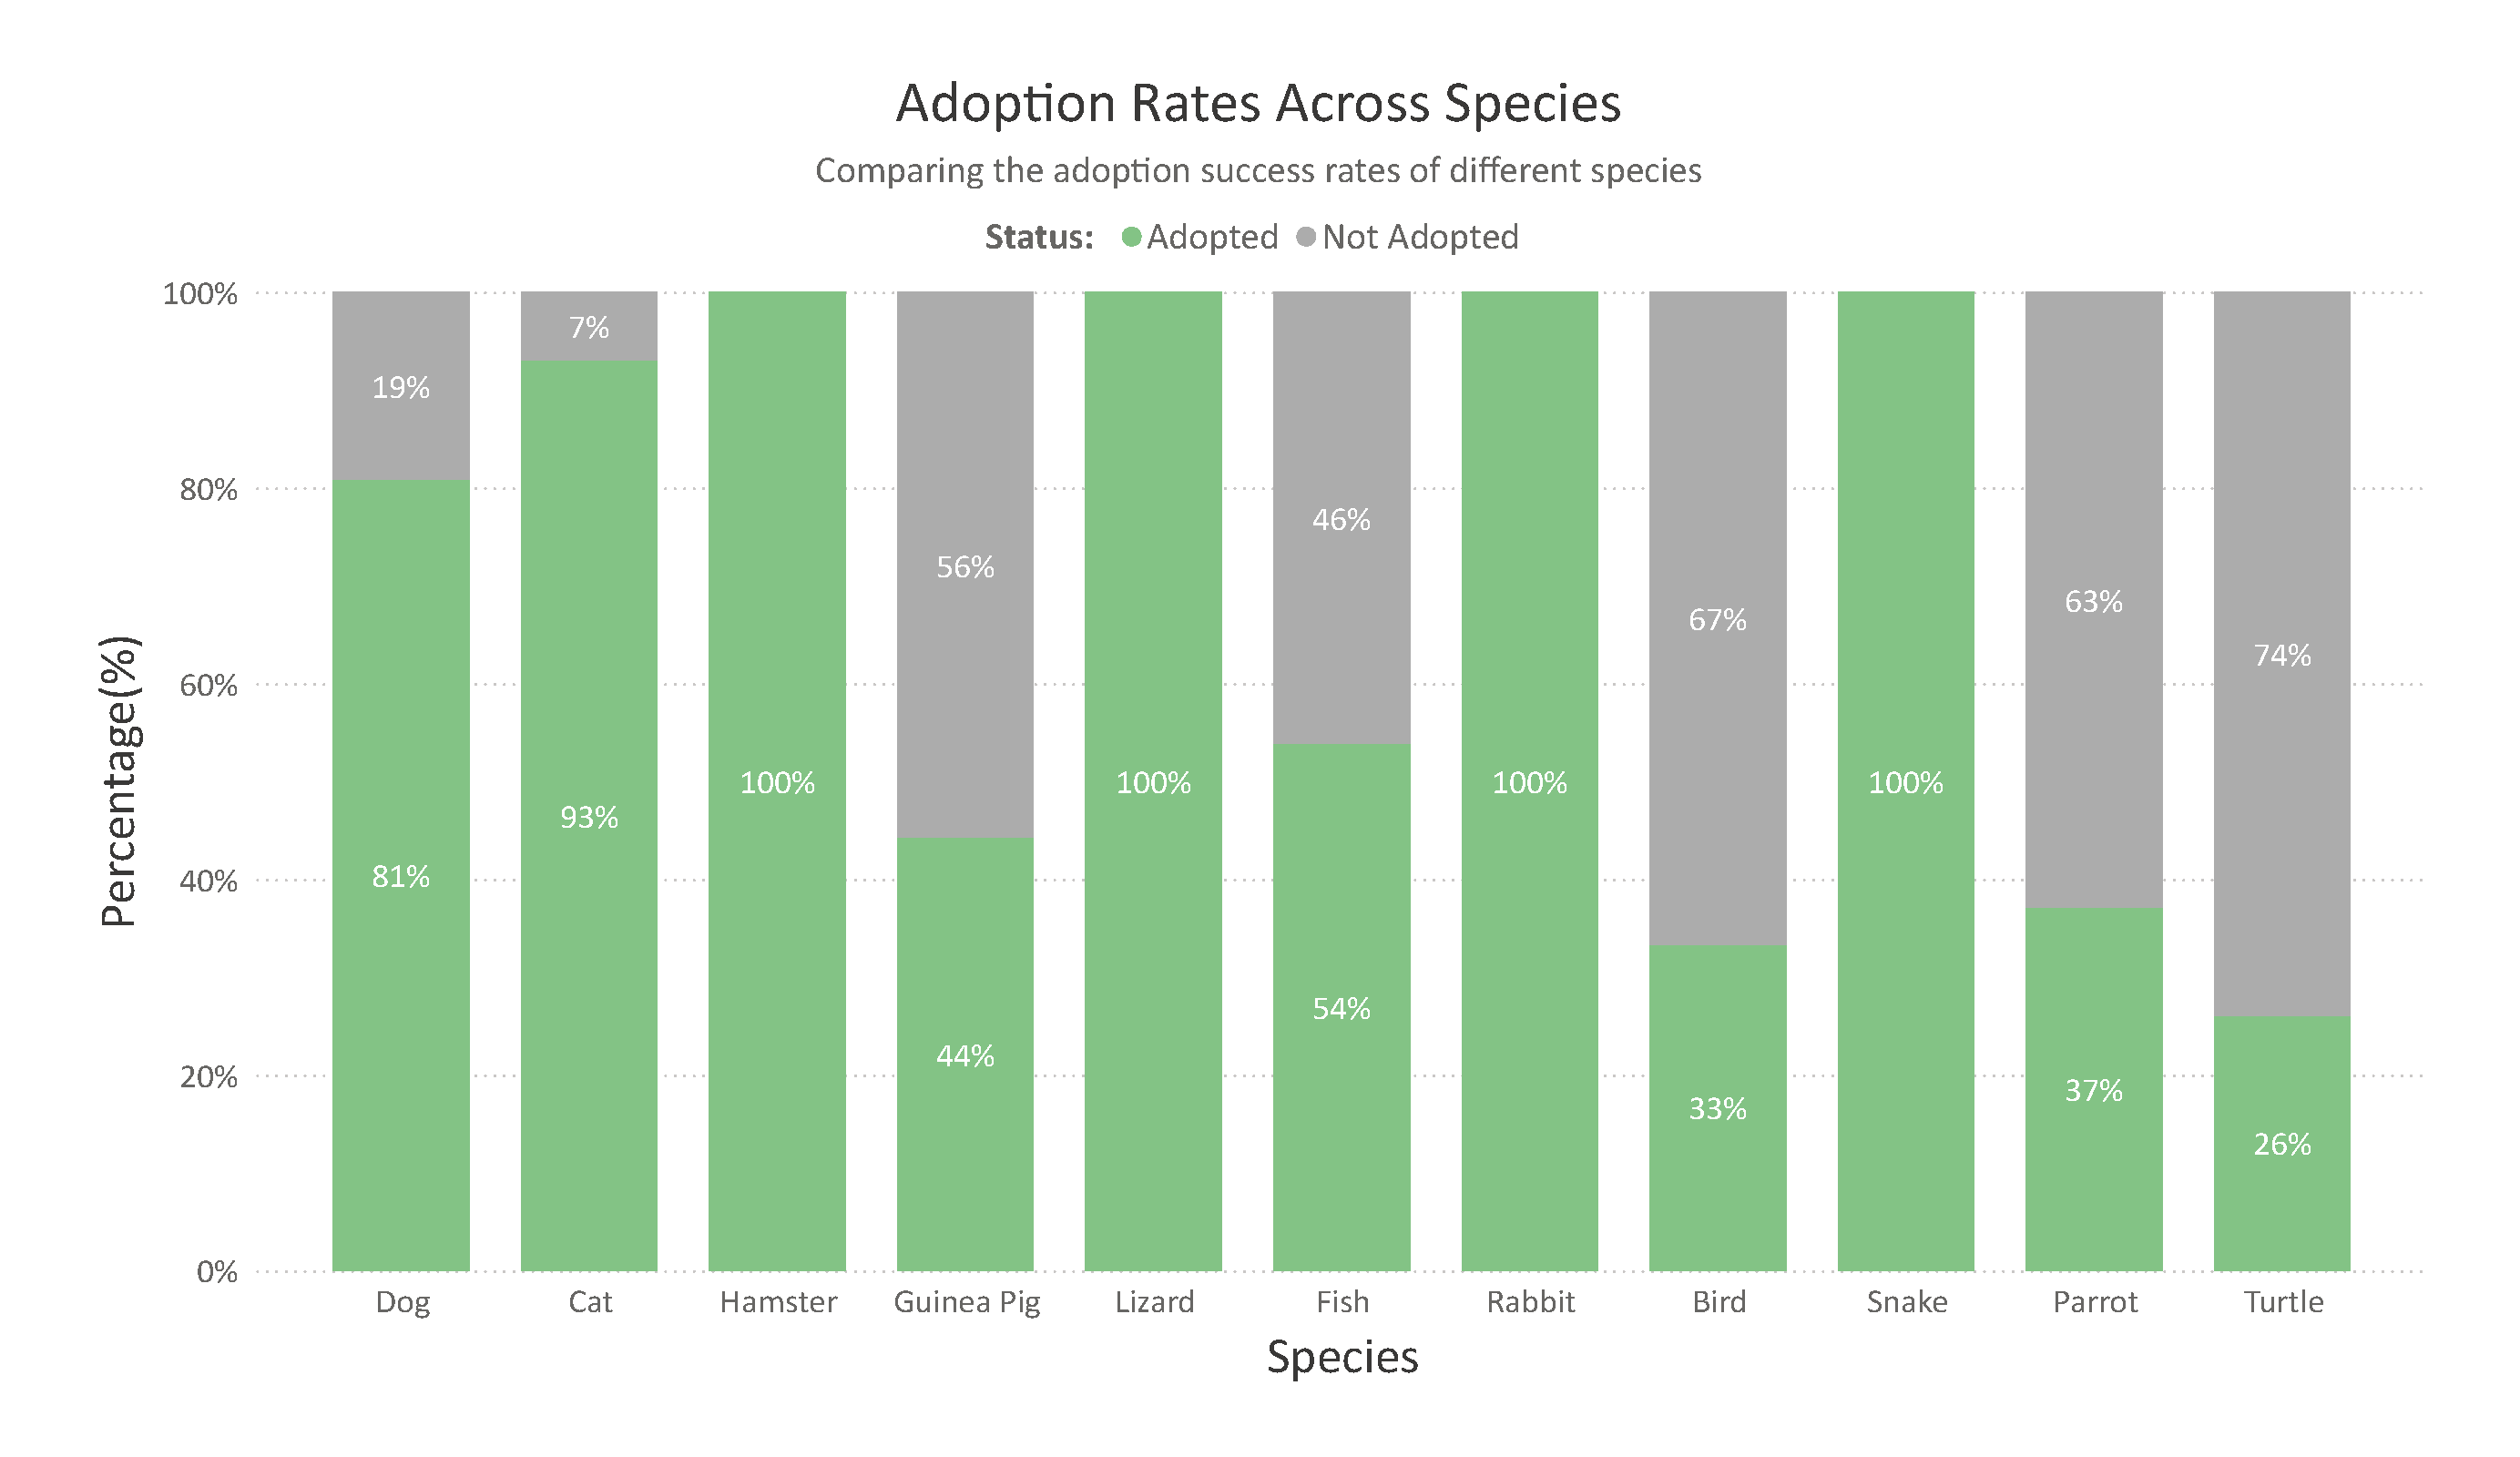

What the dashboard file says about the page in this screenshot:
{"tool":"powerbi","page":{"name":"2.1.2","canvas":[1280,720],"ordinal":9},"visuals":[{"type":"hundredPercentStackedColumnChart","title":"Adoption Rates Across Species","fields":{"Category":["2 1_adopted_vs_not_adopted.species_name"],"Y":["Sum(2 1_adopted_vs_not_adopted.adopted_count)","Sum(2 1_adopted_vs_not_adopted.not_adopted_count)"]},"box":[17.8,10.2,1243.5,701.7],"z":0}]}

Visuals, with their boxes on the page's 1280x720 design canvas (x1, y1, x2, y2). These are canvas units, not pixel positions in the 2520x1457 screenshot, which may show the page scaled, cropped or inside an application window:
"Adoption Rates Across Species" hundredPercentStackedColumnChart: (18, 10, 1261, 712)
